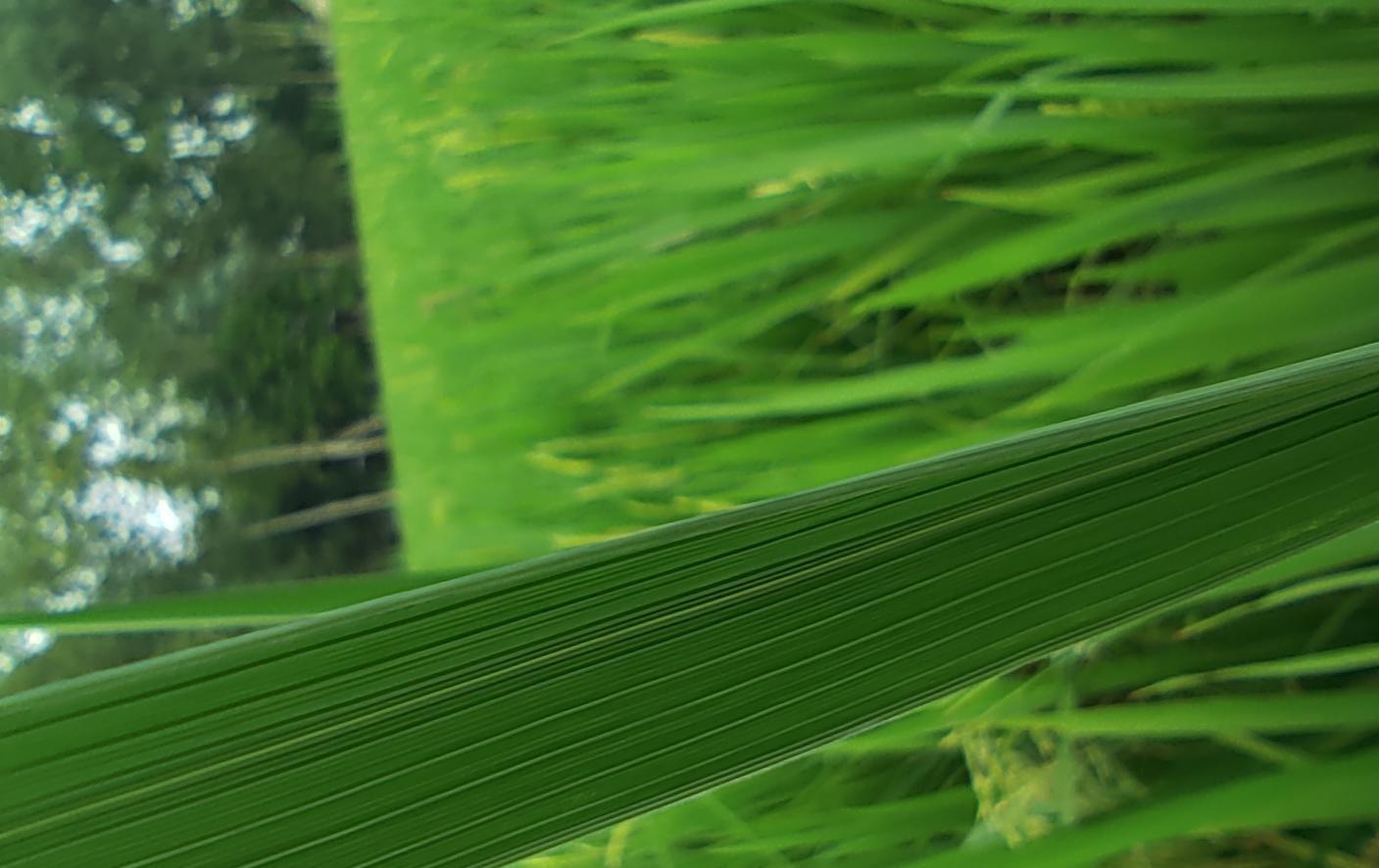Healthy: (0, 345, 1378, 867)
